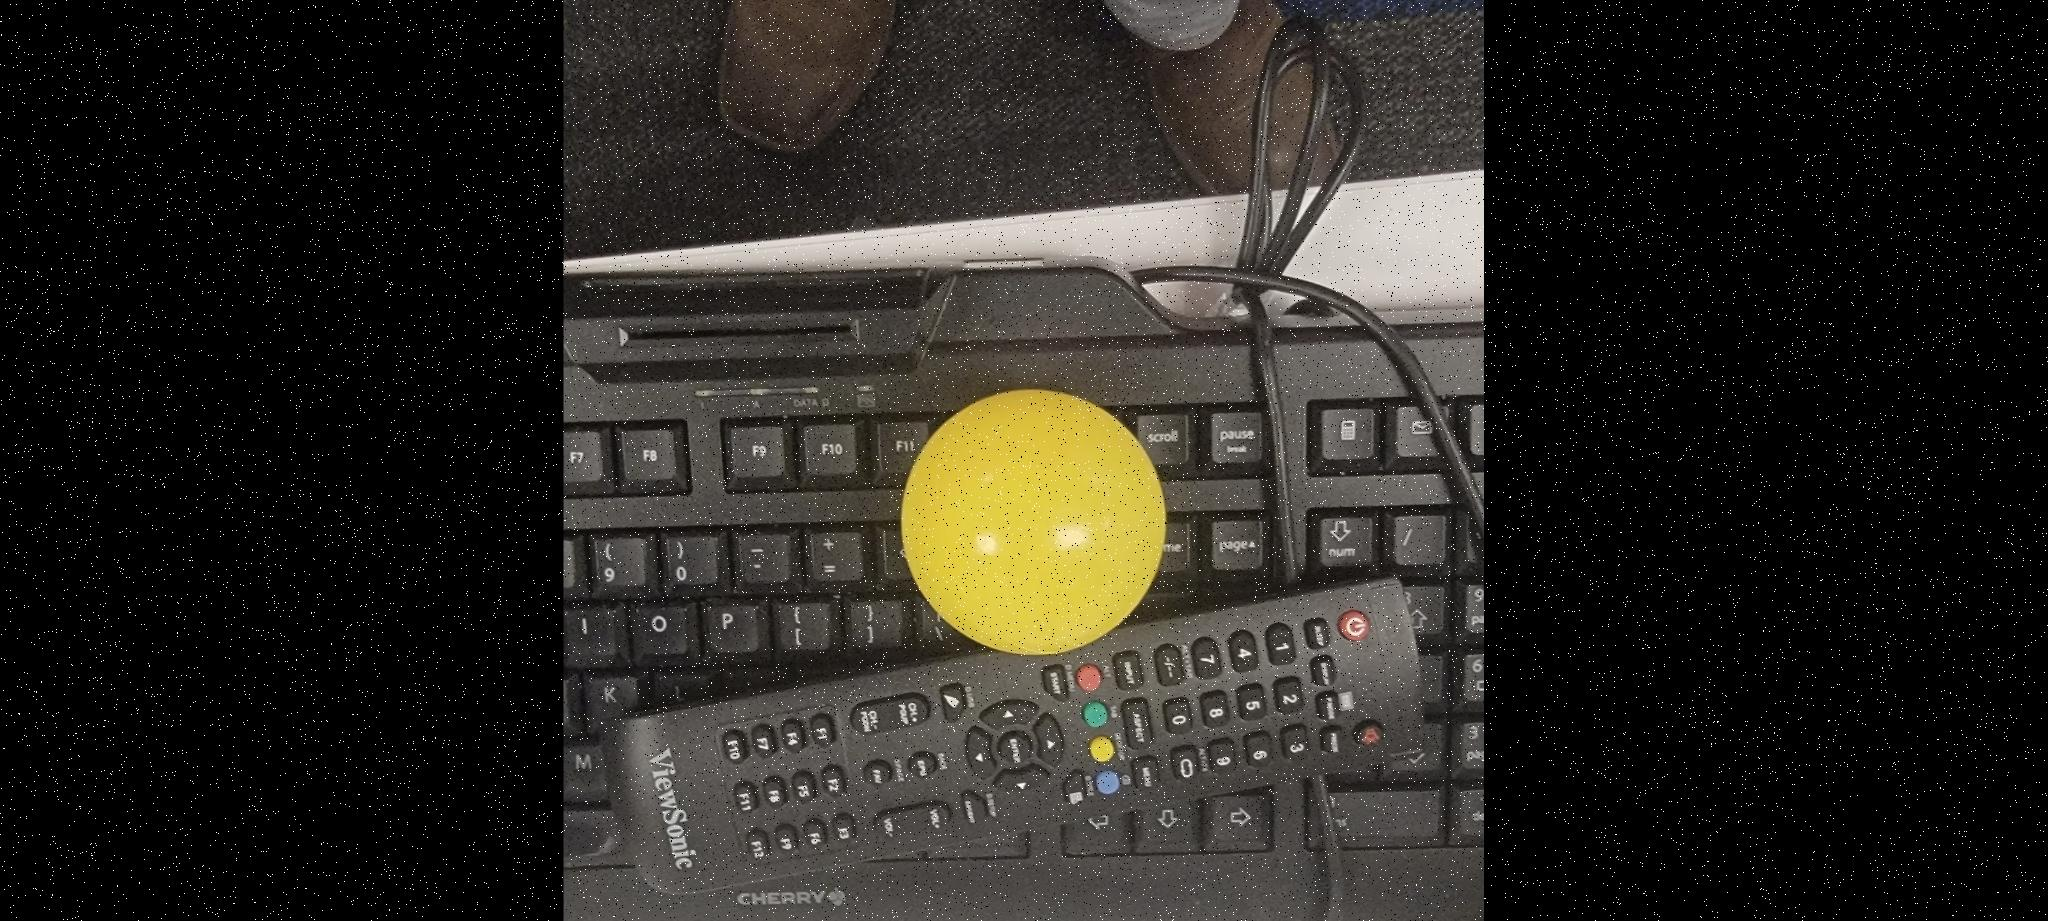Yellow-Ball: (880, 269, 1147, 529)
